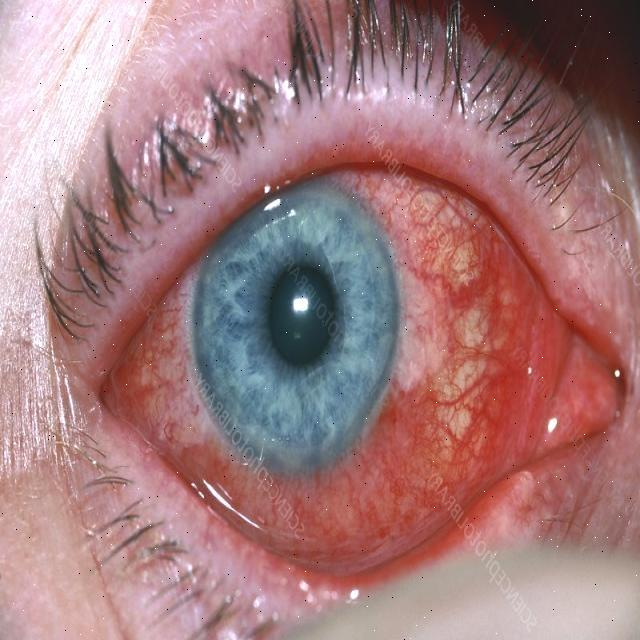Conjunctivitis: (69, 176, 628, 566)
